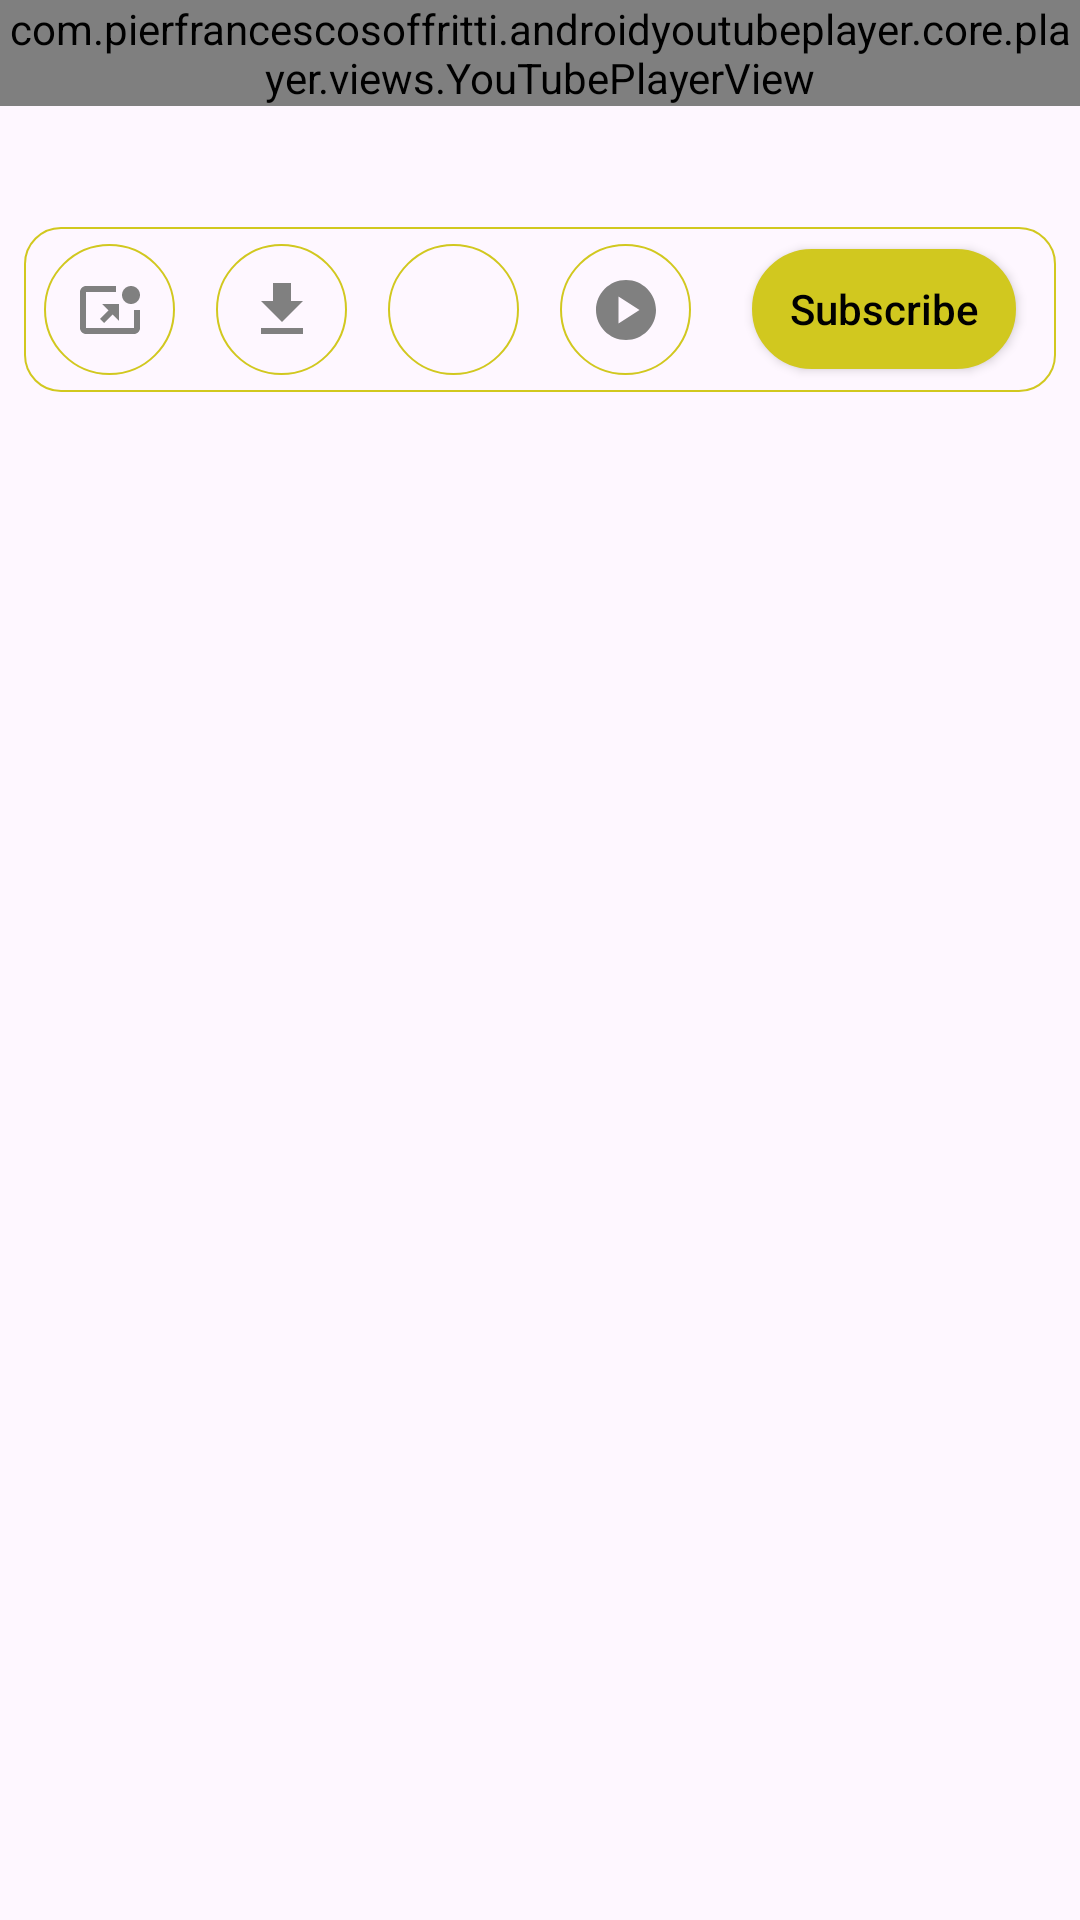

Icon click points for this 1080 × 1920 phone screenshot, format (x=x, y=y):
Download: (x=281, y=309)
Float window: (x=109, y=309)
Open youtube: (x=625, y=309)
